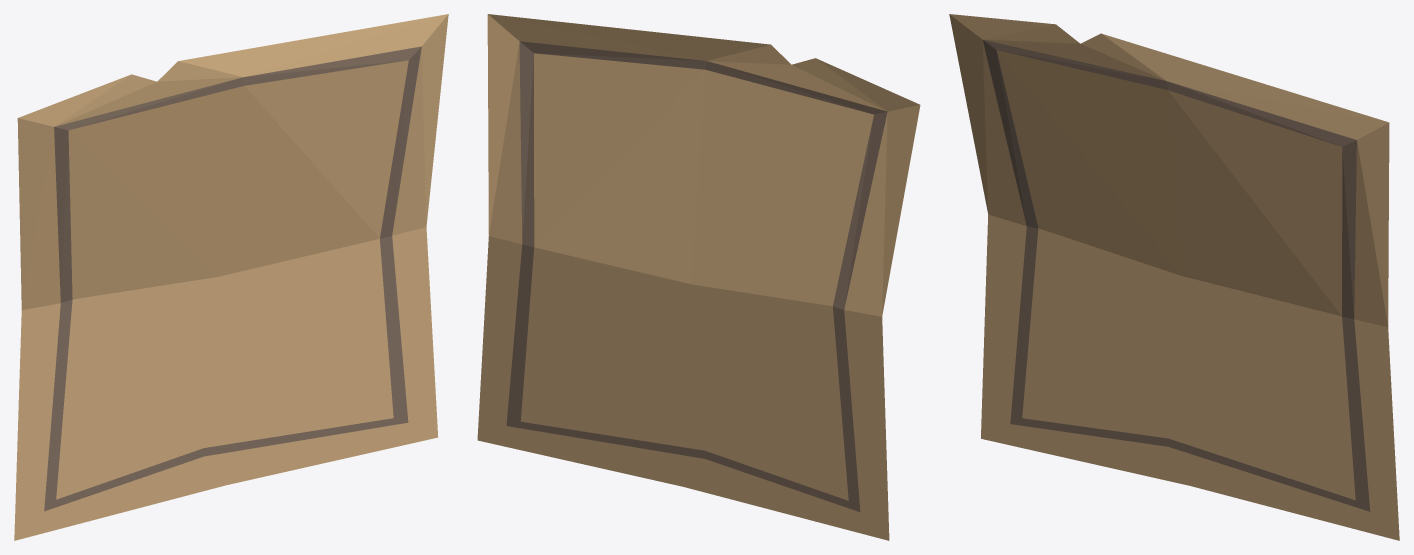
Rendered from SFHW_Paper_028.fbx.
3 views of the same model, side by side, from view 1: azimuth 30°, elevation 25°; view 2: azimuth 150°, elevation 25°; view 3: azimuth 330°, elevation 25° (orthographic). The views are drawn at different scales.
Parts seen in each view (by area): view 1: SFHW_Paper_028; view 2: SFHW_Paper_028; view 3: SFHW_Paper_028.
Boxes of the visible parts, box(x1,y1,x2,y2) form: SFHW_Paper_028: box(14, 14, 448, 540); SFHW_Paper_028: box(477, 14, 920, 540); SFHW_Paper_028: box(949, 14, 1399, 540).
Size of the model in its own units: 6.81 by 6.84 by 0.5694.
